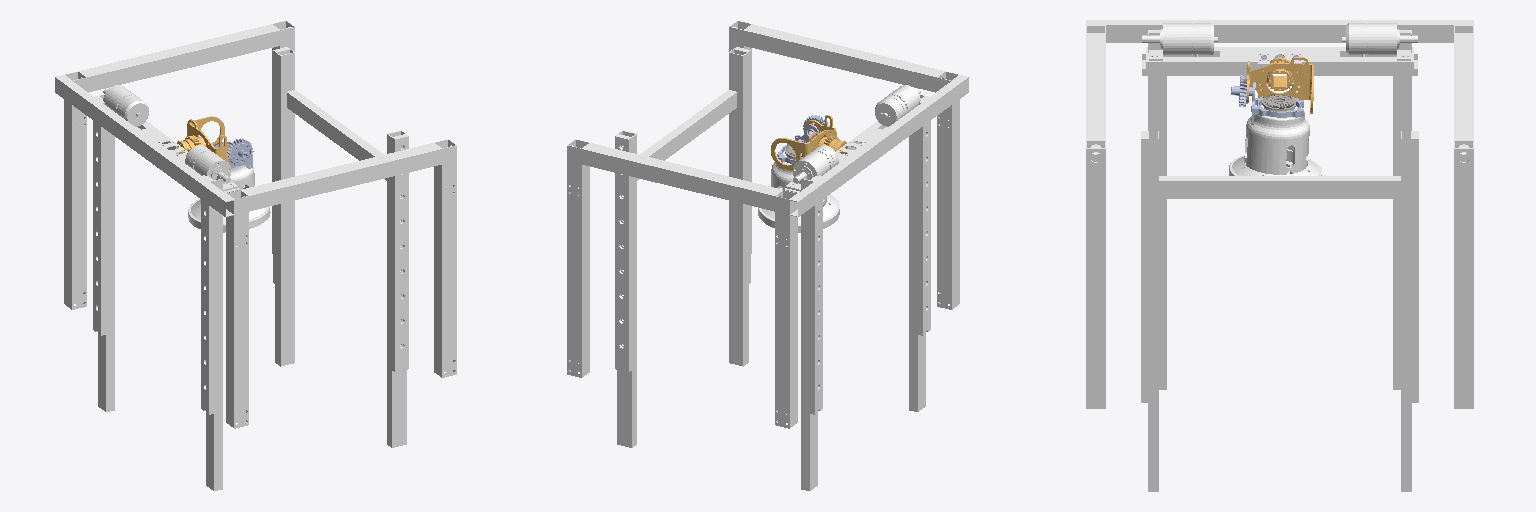
The robot description file, URDF, robot "robot":
<?xml version="1.0" encoding="utf-8"?>
<!-- This URDF was automatically created by SolidWorks to URDF Exporter! Originally created by [author] ([email redacted]) 
     Commit Version: 1.6.0-4-g7f85cfe  Build Version: 1.6.7995.38578
     For more information, please see http://wiki.ros.org/sw_urdf_exporter -->
<robot
  name="robot">
  <link
    name="origin_global">
    <inertial>
      <origin
        xyz="0 0 0"
        rpy="0 0 0" />
      <mass
        value="0.001" />
      <inertia
        ixx="0"
        ixy="0"
        ixz="0"
        iyy="0"
        iyz="0"
        izz="0" />
    </inertial>
  </link>
  <link
    name="car_lr">
    <inertial>
      <origin
        xyz="0 0 0"
        rpy="0 0 0" />
      <mass
        value="0.001" />
      <inertia
        ixx="0"
        ixy="0"
        ixz="0"
        iyy="0"
        iyz="0"
        izz="0" />
    </inertial>
  </link>
  <joint
    name="origin_global2car_lr"
    type="prismatic">
    <origin
      xyz="-0.044 0 0"
      rpy="0 0 0" />
    <parent
      link="origin_global" />
    <child
      link="car_lr" />
    <axis
      xyz="0 1 0" />
    <limit
      lower="-10"
      upper="10"
      effort="0"
      velocity="1" />
  </joint>
  <link
    name="car_fb">
    <inertial>
      <origin
        xyz="0 0 0"
        rpy="0 0 0" />
      <mass
        value="0.001" />
      <inertia
        ixx="0"
        ixy="0"
        ixz="0"
        iyy="0"
        iyz="0"
        izz="0" />
    </inertial>
  </link>
  <joint
    name="car_lr2car_fb"
    type="prismatic">
    <origin
      xyz="0 0 0"
      rpy="0 0 0" />
    <parent
      link="car_lr" />
    <child
      link="car_fb" />
    <axis
      xyz="-1 0 0" />
    <limit
      lower="-10"
      upper="10"
      effort="0"
      velocity="1" />
  </joint>
  <link
    name="car_yaw">
    <inertial>
      <origin
        xyz="0 0 0"
        rpy="0 0 0" />
      <mass
        value="0.001" />
      <inertia
        ixx="0"
        ixy="0"
        ixz="0"
        iyy="0"
        iyz="0"
        izz="0" />
    </inertial>
  </link>
  <joint
    name="car_fb2car_yaw"
    type="continuous">
    <origin
      xyz="0 0 0"
      rpy="0 0 0" />
    <parent
      link="car_fb" />
    <child
      link="car_yaw" />
    <axis
      xyz="0.0 0.0 -1.0" />
    <limit
      lower="0"
      upper="0"
      effort="0"
      velocity="0" />
  </joint>
  <link
    name="base_link">
    <inertial>
      <origin
        xyz="0.021509 -1.2254E-10 -0.00040386"
        rpy="0 0 0" />
      <mass
        value="1.6891" />
      <inertia
        ixx="0.0023256"
        ixy="-1.2261E-08"
        ixz="-9.0418E-13"
        iyy="0.0065804"
        iyz="1.2224E-13"
        izz="0.005007" />
    </inertial>
    <visual>
      <origin
        xyz="0 0 0"
        rpy="0 0 0" />
      <geometry>
        <mesh
          filename="package://robot_description5/meshes/base_link.STL" />
      </geometry>
      <material
        name="">
        <color
          rgba="0.89804 0.91765 0.92941 1" />
      </material>
    </visual>
    <collision>
      <origin
        xyz="0 0 0"
        rpy="0 0 0" />
      <geometry>
        <mesh
          filename="package://robot_description5/meshes/base_link.STL" />
      </geometry>
    </collision>
  </link>
  <joint
    name="car_yaw2base_link"
    type="fixed">
    <origin
      xyz="0 0 0"
      rpy="0 0 0" />
    <parent
      link="car_yaw" />
    <child
      link="base_link" />
    <axis
      xyz="0 0 0" />
  </joint>
  <link
    name="ud_fixed">
    <inertial>
      <origin
        xyz="-0.1611 -0.17 0.041823"
        rpy="0 0 0" />
      <mass
        value="0.54105" />
      <inertia
        ixx="0.0082957"
        ixy="1.9272E-20"
        ixz="-1.3866E-08"
        iyy="0.0081079"
        iyz="1.3549E-18"
        izz="0.00023148" />
    </inertial>
    <visual>
      <origin
        xyz="0 0 0"
        rpy="0 0 0" />
      <geometry>
        <mesh
          filename="package://robot_description5/meshes/ud_fixed.STL" />
      </geometry>
      <material
        name="">
        <color
          rgba="1 1 1 1" />
      </material>
    </visual>
    <collision>
      <origin
        xyz="0 0 0"
        rpy="0 0 0" />
      <geometry>
        <mesh
          filename="package://robot_description5/meshes/ud_fixed.STL" />
      </geometry>
    </collision>
  </link>
  <joint
    name="base_link2ud_fixed"
    type="fixed">
    <origin
      xyz="0.1817 0.17 0.253"
      rpy="0 0 0" />
    <parent
      link="base_link" />
    <child
      link="ud_fixed" />
    <axis
      xyz="0 0 0" />
  </joint>
  <link
    name="ud_move">
    <inertial>
      <origin
        xyz="-0.21827 -0.249 0.071024"
        rpy="0 0 0" />
      <mass
        value="0.001" />
      <inertia
        ixx="0.0023611"
        ixy="7.1456E-21"
        ixz="-1.3757E-20"
        iyy="0.0021234"
        iyz="-4.2205E-21"
        izz="0.0013657" />
    </inertial>
    <visual>
      <origin
        xyz="0 0 0"
        rpy="0 0 0" />
      <geometry>
        <mesh
          filename="package://robot_description5/meshes/ud_move.STL" />
      </geometry>
      <material
        name="">
        <color
          rgba="1 1 1 1" />
      </material>
    </visual>
    <collision>
      <origin
        xyz="0 0 0"
        rpy="0 0 0" />
      <geometry>
        <mesh
          filename="package://robot_description5/meshes/ud_move.STL" />
      </geometry>
    </collision>
  </link>
  <joint
    name="ud_fixed2ud_move"
    type="prismatic">
    <origin
      xyz="0.039 0.079 0.07"
      rpy="0 0 0" />
    <parent
      link="ud_fixed" />
    <child
      link="ud_move" />
    <axis
      xyz="0 0 1" />
    <limit
      lower="0"
      upper="0.3"
      effort="0"
      velocity="1" />
  </joint>
  <link
    name="fb_move">
    <inertial>
      <origin
        xyz="-0.16962 -0.185 -0.018823"
        rpy="0 0 0" />
      <mass
        value="0.001" />
      <inertia
        ixx="0.0005007"
        ixy="-1.1793E-14"
        ixz="-8.5853E-08"
        iyy="5.291E-05"
        iyz="5.0212E-15"
        izz="0.00050986" />
    </inertial>
    <visual>
      <origin
        xyz="0 0 0"
        rpy="0 0 0" />
      <geometry>
        <mesh
          filename="package://robot_description5/meshes/fb_move.STL" />
      </geometry>
      <material
        name="">
        <color
          rgba="1 1 1 1" />
      </material>
    </visual>
    <collision>
      <origin
        xyz="0 0 0"
        rpy="0 0 0" />
      <geometry>
        <mesh
          filename="package://robot_description5/meshes/fb_move.STL" />
      </geometry>
    </collision>
  </link>
  <joint
    name="ud_move2fb_move"
    type="prismatic">
    <origin
      xyz="-0.175 -0.064 0.192"
      rpy="0 0 0" />
    <parent
      link="ud_move" />
    <child
      link="fb_move" />
    <axis
      xyz="1 0 0" />
    <limit
      lower="0"
      upper="0.3"
      effort="0"
      velocity="1" />
  </joint>
  <link
    name="roll_link">
    <inertial>
      <origin
        xyz="-0.0079761 0.0020985 -0.0010533"
        rpy="0 0 0" />
      <mass
        value="0.001" />
      <inertia
        ixx="8.5742E-05"
        ixy="-1.1174E-06"
        ixz="-1.6213E-06"
        iyy="3.7862E-05"
        iyz="1.3618E-06"
        izz="7.7028E-05" />
    </inertial>
    <visual>
      <origin
        xyz="0 0 0"
        rpy="0 0 0" />
      <geometry>
        <mesh
          filename="package://robot_description5/meshes/roll_link.STL" />
      </geometry>
      <material
        name="">
        <color
          rgba="1 0.80784 0.49804 1" />
      </material>
    </visual>
    <collision>
      <origin
        xyz="0 0 0"
        rpy="0 0 0" />
      <geometry>
        <mesh
          filename="package://robot_description5/meshes/roll_link.STL" />
      </geometry>
    </collision>
  </link>
  <joint
    name="fb_move2roll_link"
    type="revolute">
    <origin
      xyz="-0.109 -0.185 -0.0445"
      rpy="0 0 0" />
    <parent
      link="fb_move" />
    <child
      link="roll_link" />
    <axis
      xyz="-1 0 0" />
    <limit
      lower="-3.14"
      upper="3.14"
      effort="0"
      velocity="1" />
  </joint>
  <link
    name="pitch_Link">
    <inertial>
      <origin
        xyz="0.00023863 -0.0036836 -0.0060035"
        rpy="0 0 0" />
      <mass
        value="0.001" />
      <inertia
        ixx="1.5065E-05"
        ixy="-1.7625E-08"
        ixz="-3.3721E-07"
        iyy="1.8379E-05"
        iyz="1.4059E-07"
        izz="2.1065E-05" />
    </inertial>
    <visual>
      <origin
        xyz="0 0 0"
        rpy="0 0 0" />
      <geometry>
        <mesh
          filename="package://robot_description5/meshes/pitch_Link.STL" />
      </geometry>
      <material
        name="">
        <color
          rgba="0.79216 0.81961 0.93333 1" />
      </material>
    </visual>
    <collision>
      <origin
        xyz="0 0 0"
        rpy="0 0 0" />
      <geometry>
        <mesh
          filename="package://robot_description5/meshes/pitch_Link.STL" />
      </geometry>
    </collision>
  </link>
  <joint
    name="roll_link2pitch_link"
    type="revolute">
    <origin
      xyz="0.035 -0.031956 0.0016682"
      rpy="0 0 0" />
    <parent
      link="roll_link" />
    <child
      link="pitch_Link" />
    <axis
      xyz="0 -0.99864 0.05213" />
    <limit
      lower="0"
      upper="3.14"
      effort="0"
      velocity="1" />
  </joint>
  <link
    name="yaw_Link">
    <inertial>
      <origin
        xyz="0.00010063 -0.00010565 -0.0020239"
        rpy="0 0 0" />
      <mass
        value="0.001" />
      <inertia
        ixx="3.7305E-06"
        ixy="-9.4257E-09"
        ixz="-1.8056E-07"
        iyy="3.7314E-06"
        iyz="1.8957E-07"
        izz="7.3531E-06" />
    </inertial>
    <visual>
      <origin
        xyz="0 0 0"
        rpy="0 0 0" />
      <geometry>
        <mesh
          filename="package://robot_description5/meshes/yaw_Link.STL" />
      </geometry>
      <material
        name="">
        <color
          rgba="0.77647 0.75686 0.73725 1" />
      </material>
    </visual>
    <collision>
      <origin
        xyz="0 0 0"
        rpy="0 0 0" />
      <geometry>
        <mesh
          filename="package://robot_description5/meshes/yaw_Link.STL" />
      </geometry>
    </collision>
  </link>
  <joint
    name="pitch_link2yaw_link"
    type="revolute">
    <origin
      xyz="0.00049592 0.031436 -0.011642"
      rpy="0 0 0" />
    <parent
      link="pitch_Link" />
    <child
      link="yaw_Link" />
    <axis
      xyz="0.049592 -0.052066 -0.99741" />
    <limit
      lower="-3.14"
      upper="3.14"
      effort="0"
      velocity="1" />
  </joint>
  <link
    name="hand">
    <inertial>
      <origin
        xyz="-0.0019754 0.0022643 0.04645"
        rpy="0 0 0" />
      <mass
        value="0.001" />
      <inertia
        ixx="0.00041044"
        ixy="1.4842E-06"
        ixz="4.9661E-06"
        iyy="0.00041247"
        iyz="-5.0769E-06"
        izz="0.00031835" />
    </inertial>
    <visual>
      <origin
        xyz="0 0 0"
        rpy="0 0 0" />
      <geometry>
        <mesh
          filename="package://robot_description5/meshes/hand.STL" />
      </geometry>
      <material
        name="">
        <color
          rgba="1 1 1 1" />
      </material>
    </visual>
    <collision>
      <origin
        xyz="0 0 0"
        rpy="0 0 0" />
      <geometry>
        <mesh
          filename="package://robot_description5/meshes/hand.STL" />
      </geometry>
    </collision>
  </link>
  <joint
    name="yaw_link2hand"
    type="fixed">
    <origin
      xyz="0.0053559 -0.0056232 -0.10772"
      rpy="0 0 0" />
    <parent
      link="yaw_Link" />
    <child
      link="hand" />
    <axis
      xyz="0 0 0" />
  </joint>


</robot>

--- Facts derived from the render (not from the file) ---
3 views of the same robot in one strip: view 1: azimuth 30°, elevation 25°; view 2: azimuth 150°, elevation 25°; view 3: azimuth 270°, elevation 25° (orthographic).
Robot: robot — 12 links, 11 joints (3 revolute, 1 continuous, 4 prismatic, 3 fixed); root link origin_global; default pose: every joint at zero.
Links seen in each view (by area): view 1: ud_move, ud_fixed, fb_move, hand, roll_link, pitch_Link; view 2: ud_move, ud_fixed, fb_move, roll_link, hand; view 3: ud_fixed, ud_move, fb_move, hand, roll_link, pitch_Link.
Boxes of the visible links, bbox=[...] form: ud_move: bbox=[55, 21, 456, 428]; ud_fixed: bbox=[93, 47, 408, 490]; fb_move: bbox=[103, 85, 239, 192]; hand: bbox=[188, 165, 270, 232]; roll_link: bbox=[177, 116, 233, 161]; pitch_Link: bbox=[223, 138, 253, 168]; ud_move: bbox=[567, 21, 968, 428]; ud_fixed: bbox=[615, 47, 930, 490]; fb_move: bbox=[784, 85, 920, 192]; roll_link: bbox=[771, 115, 846, 170]; hand: bbox=[758, 150, 839, 232]; ud_fixed: bbox=[1141, 30, 1418, 491]; ud_move: bbox=[1086, 20, 1473, 408]; fb_move: bbox=[1142, 23, 1417, 75]; hand: bbox=[1229, 105, 1321, 175]; roll_link: bbox=[1246, 57, 1313, 113]; pitch_Link: bbox=[1231, 75, 1303, 124].
Size in the robot's own frame: 0.39 by 0.498 by 0.52 metres.
Meshes: 8 distinct files referenced, 7 mesh visuals loaded (7 binary STL); not drawn: 1 (reference not matched to a file when rendering).
